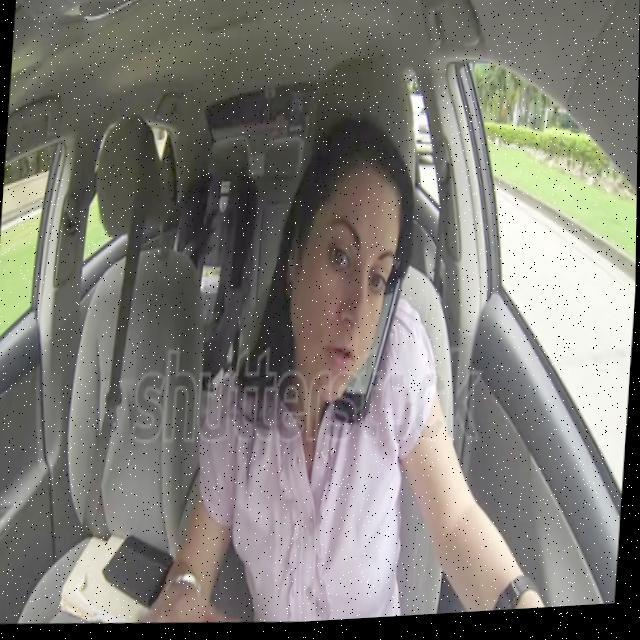PhoneCall: (337, 276, 405, 428)
